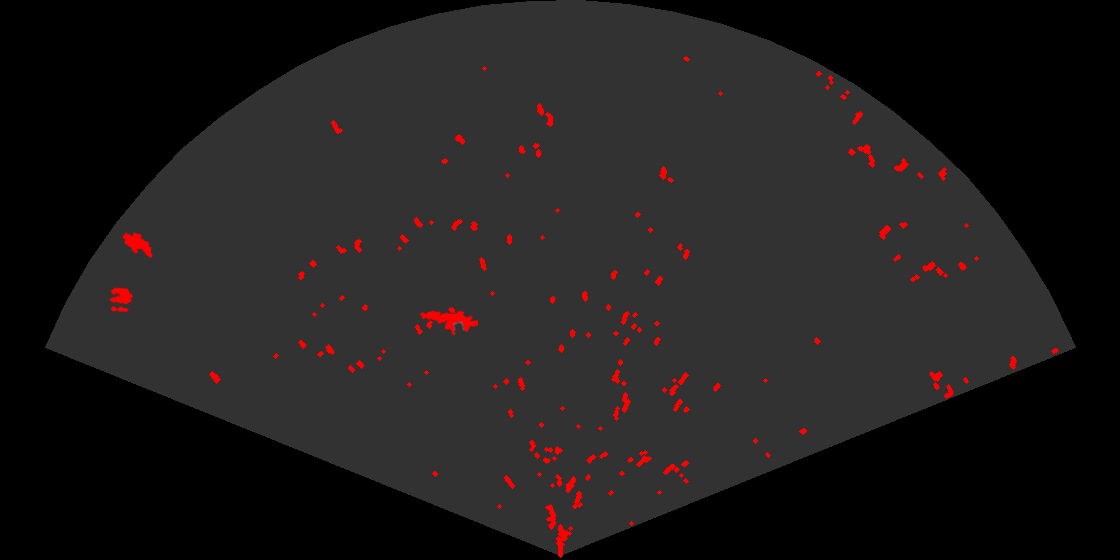AUV: (121, 231, 154, 259)
ball: (108, 286, 134, 314)
frogman: (418, 309, 478, 337)
